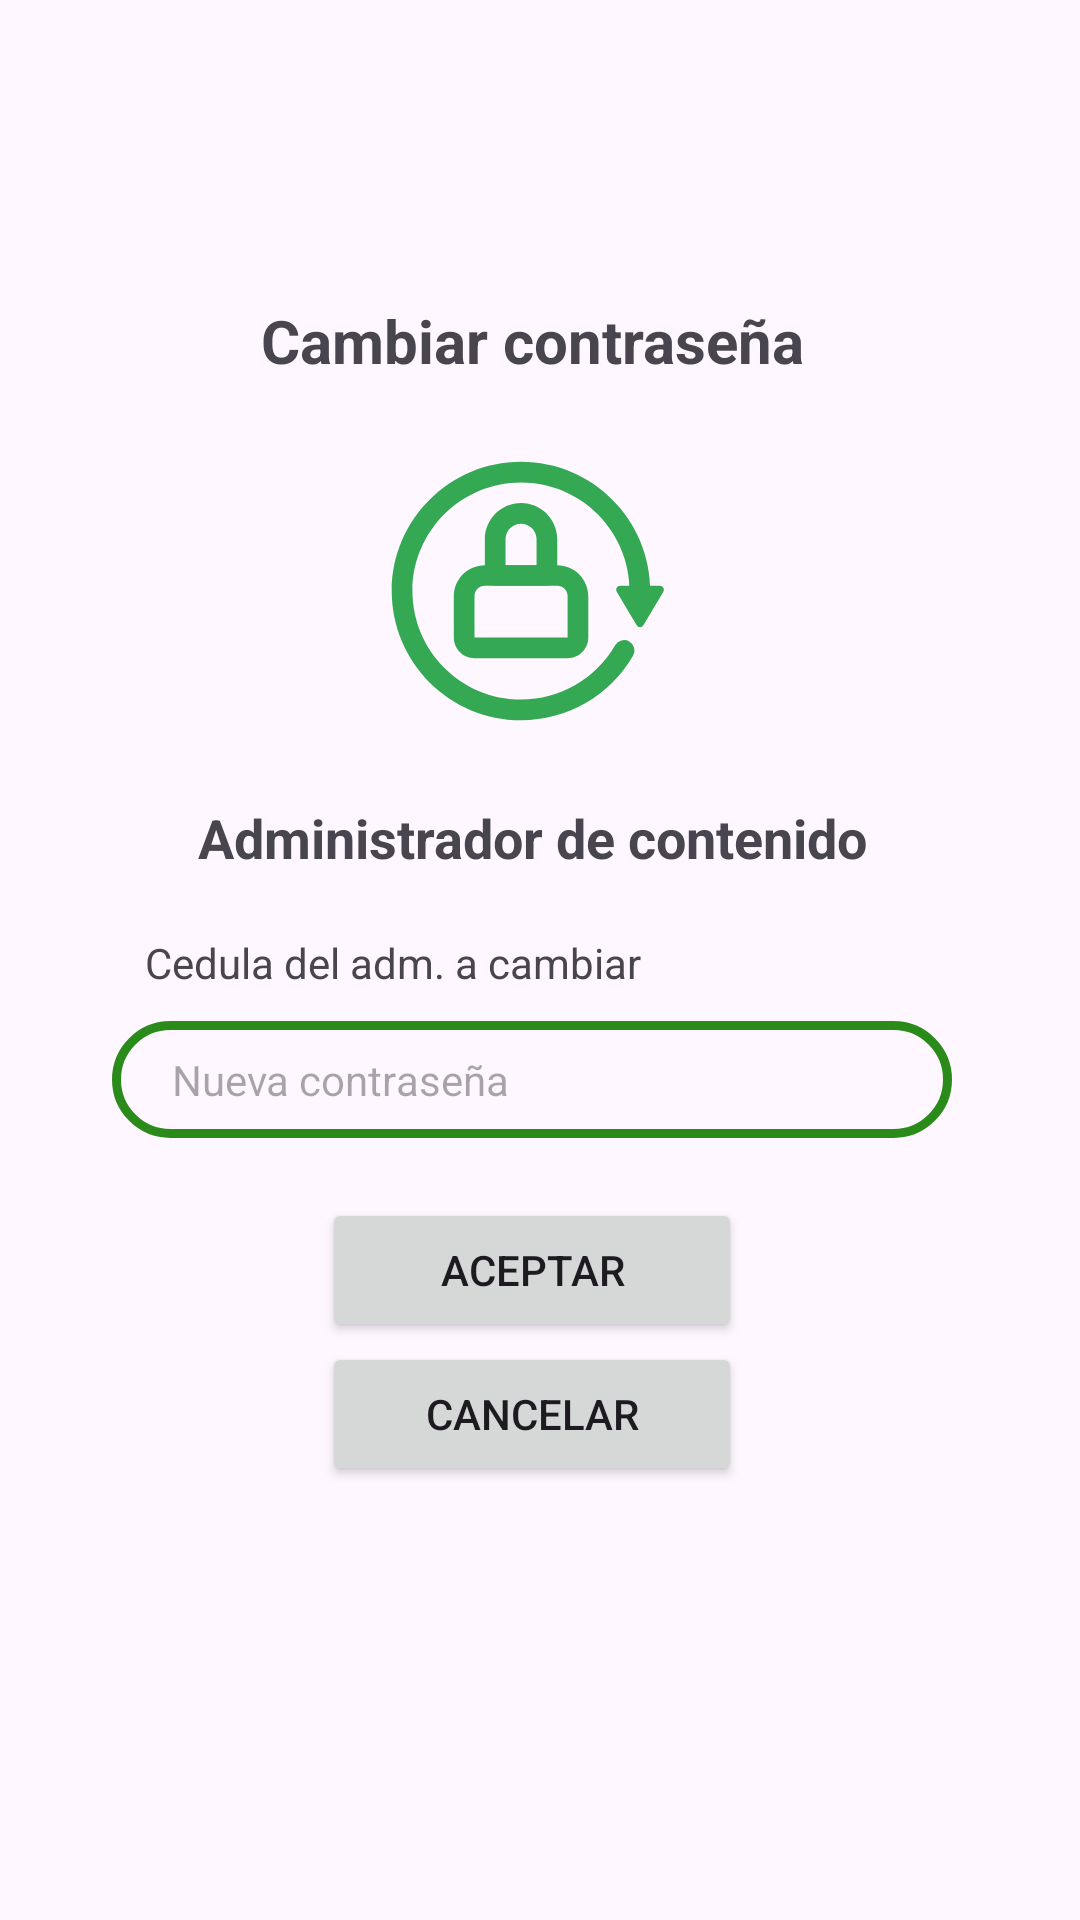

Icons on this 1080px×1920px Android screen, each with the point to tap as [x,y]:
lock: [527,591]
